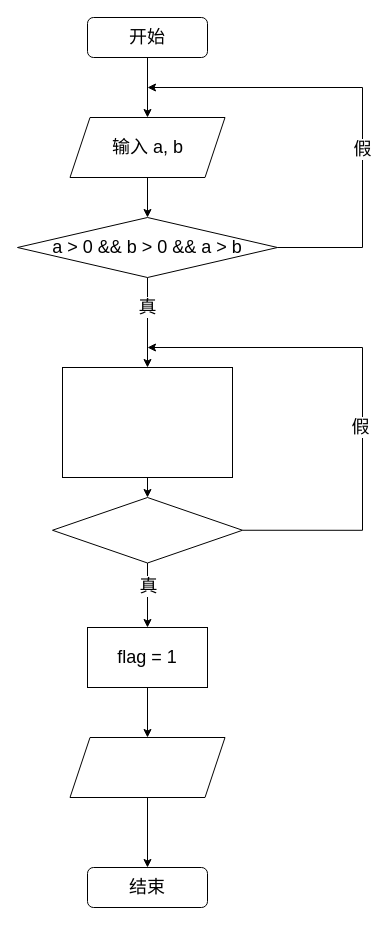
The diagram is 388 pixels wide and 925 high, and some of its shapes have lost their labels. Here are the shapes that lost their labels. From the top down, the centre of each, then its label:
At pixel 147 422: "c = a / b d = a % b a = b b = d".
At pixel 147 529: "a % b == 0".
At pixel 147 767: "最大公约数： flag ? b : 1".
